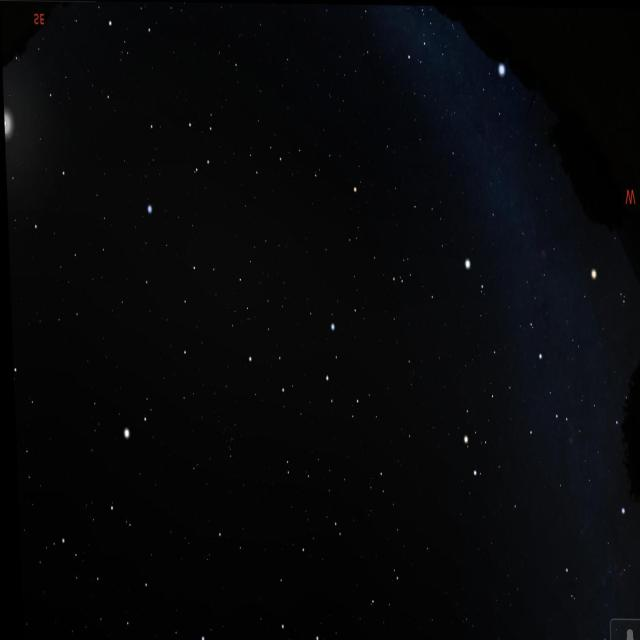bootes: (65, 416, 171, 640)
canis_minor: (452, 244, 487, 309)
gemini: (446, 332, 573, 487)
leo: (233, 299, 364, 440)
moon: (2, 70, 31, 164)
